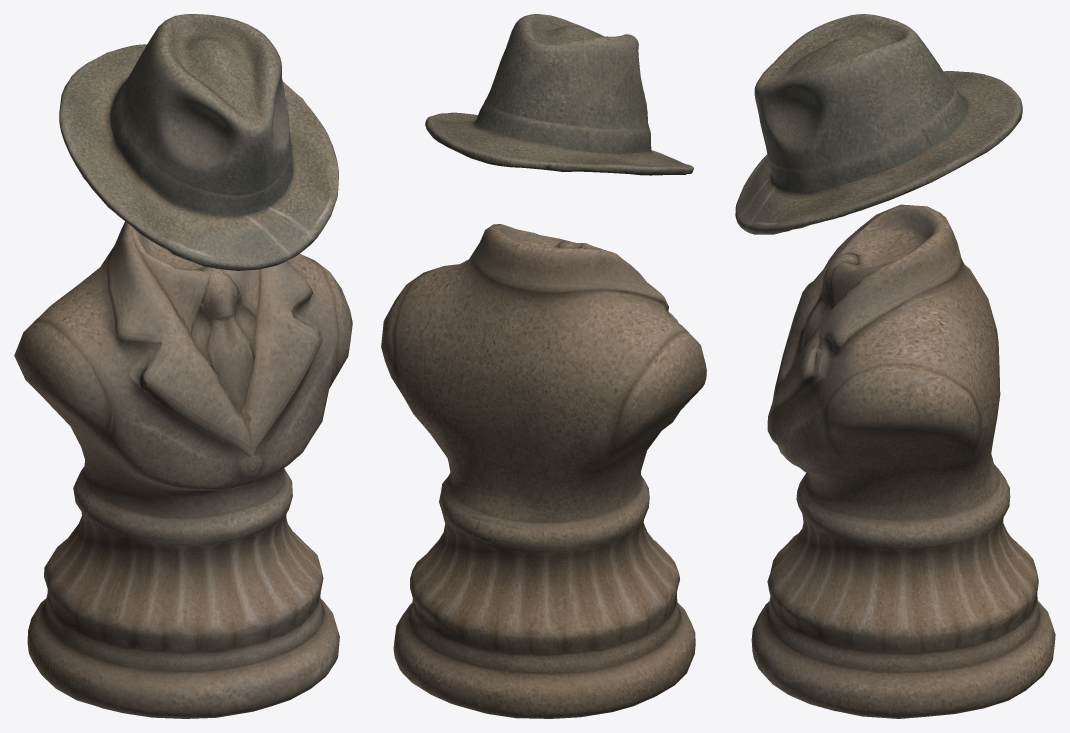
Rendered from Player.fbx.
The picture shows the model from 3 angles, left to right: view 1: azimuth 30°, elevation 25°; view 2: azimuth 150°, elevation 25°; view 3: azimuth 270°, elevation 25°; orthographic projection. The views are drawn at different scales.
Visible parts, largest first — view 1: Player; view 2: Player; view 3: Player.
Boxes of the visible parts, left/top/right/bottom form: Player: left=14, top=14, right=352, bottom=718; Player: left=381, top=14, right=706, bottom=718; Player: left=735, top=14, right=1055, bottom=718.
Bounding box in the file's own units: 71.63 × 144 × 66.6.
